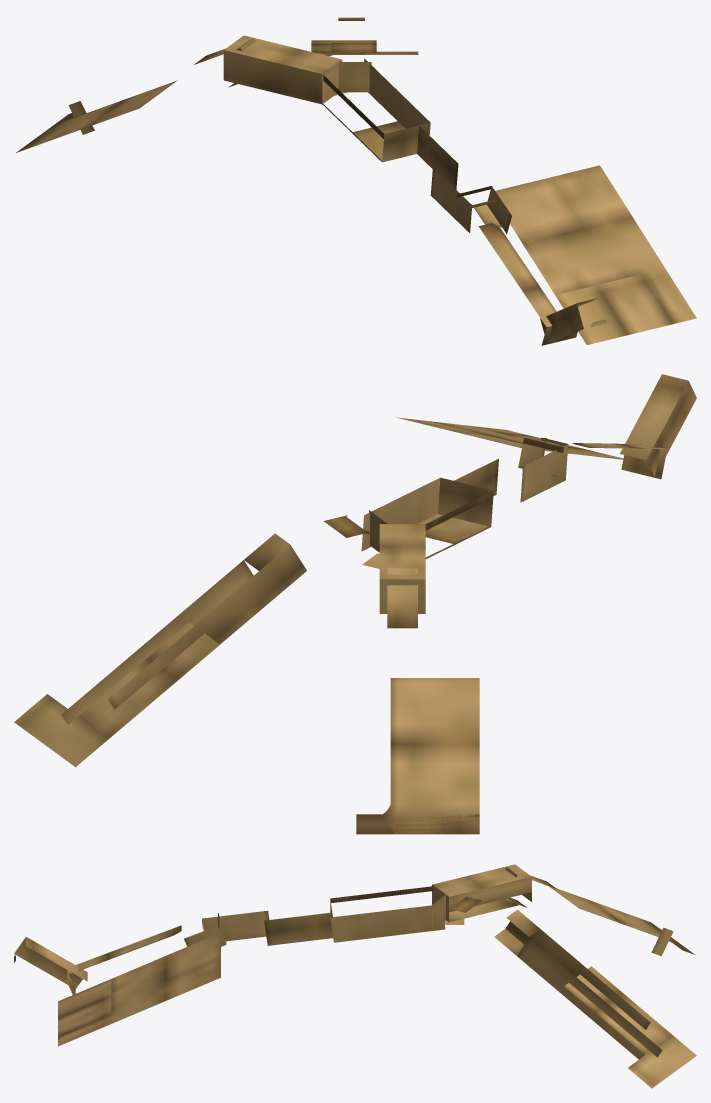
File: fagot.obj
3 views of the same model, one above another, from view 1: azimuth 30°, elevation 25°; view 2: azimuth 150°, elevation 25°; view 3: azimuth 270°, elevation 25° (orthographic). The views are drawn at different scales.
Parts seen in each view (by area): view 1: base; view 2: base; view 3: base.
Part boxes in pixels (bbox=[...]): base: bbox=[16, 17, 696, 345]; base: bbox=[14, 374, 696, 834]; base: bbox=[14, 864, 696, 1088].
Size of the model in its own units: 1.21 by 0.3946 by 2.1.
